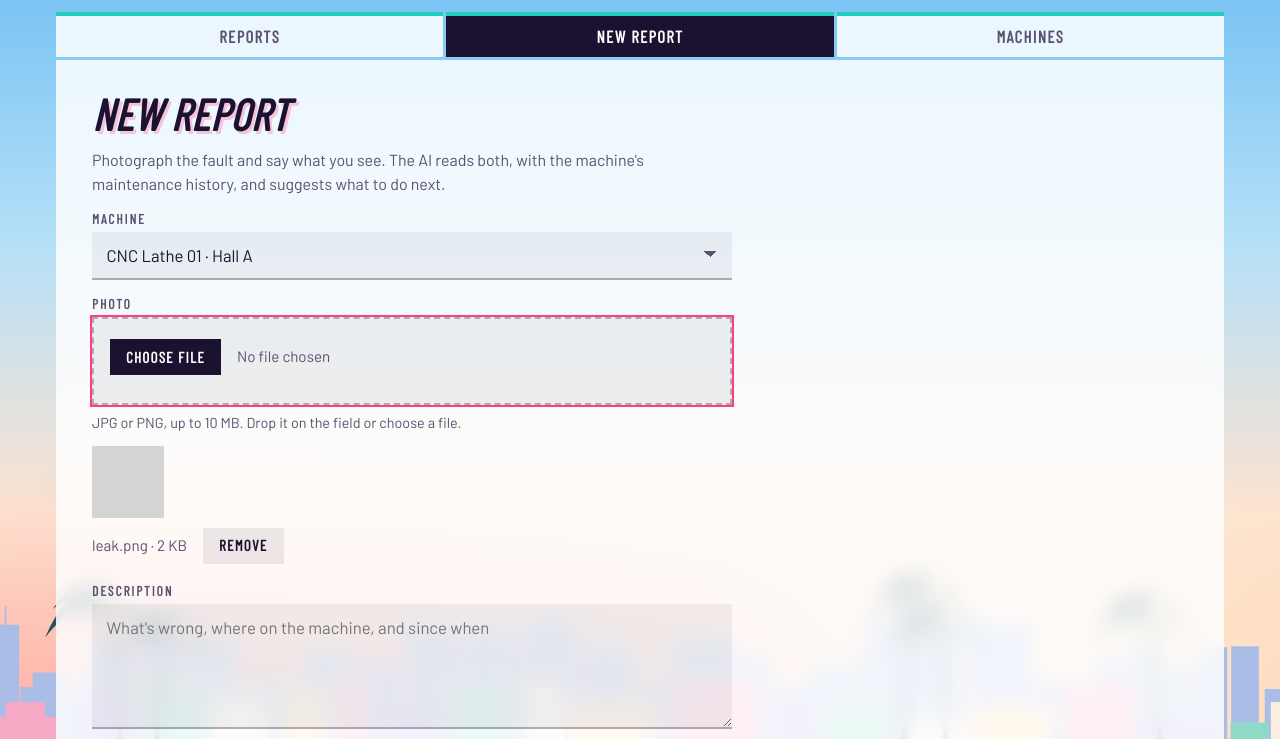
Test: new report page › shows the server’s answer when the upload fails, and lets the user send again
This screenshot has width=1280, height=739.
Earlier steps of the test are not shown.
In the text box labelled "Description": (412, 666) [92, 604, 732, 729], type "Coolant leak"
(page scrolled)
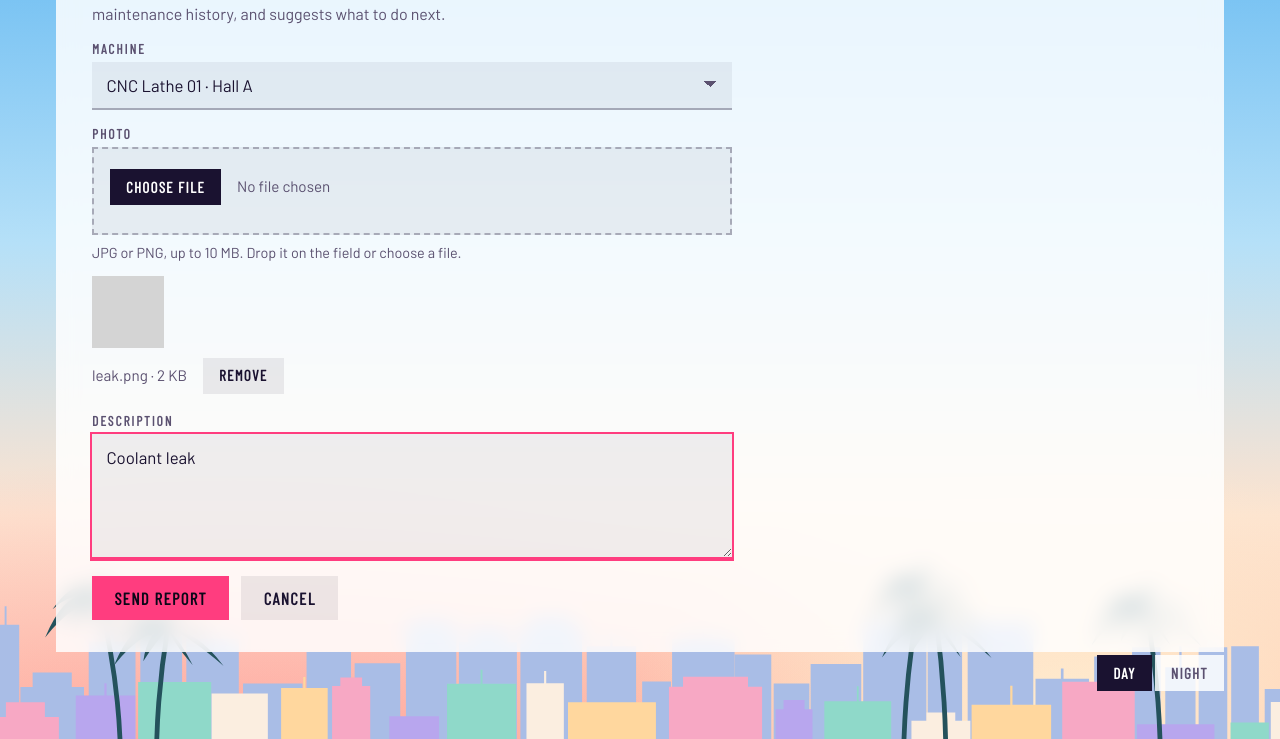
Click the button "Send report": (161, 598) [92, 576, 229, 620]
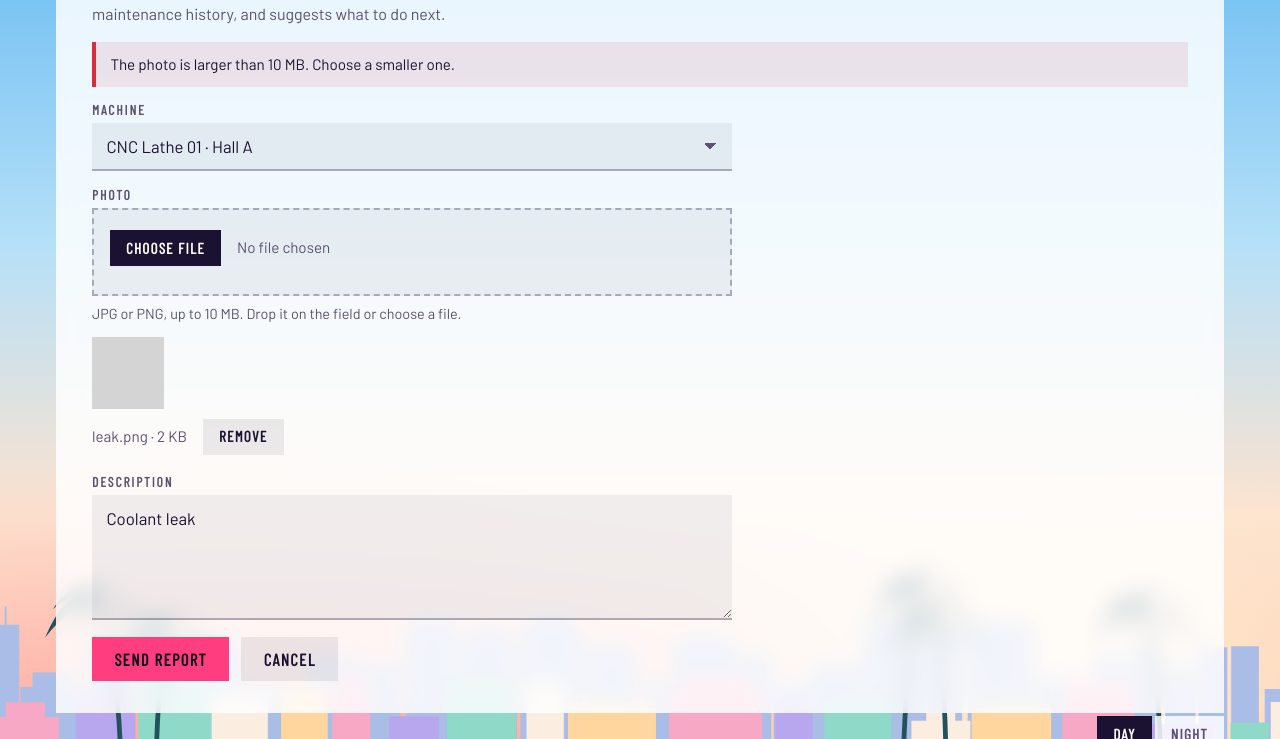
Expected: the button "Send report" is enabled, [92, 637, 229, 681]
Expected: the message reads "The photo is larger than 10 MB. Choose a smaller one.", [110, 55, 455, 73]
